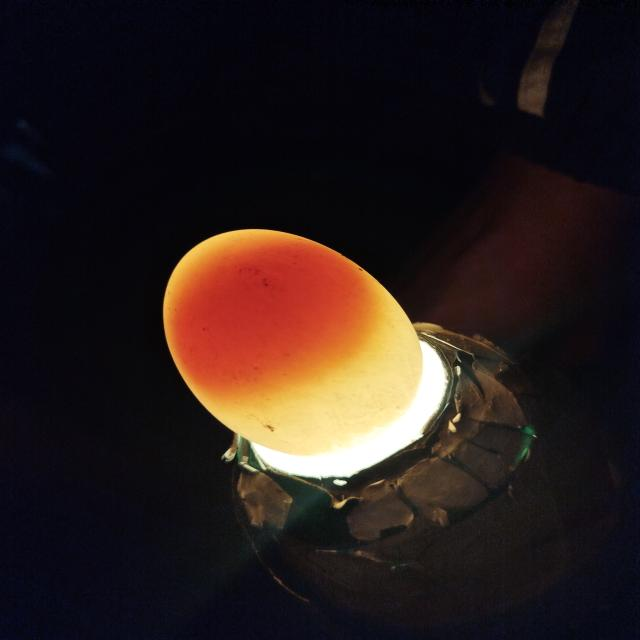Gema Quebrada: (172, 240, 346, 386)
